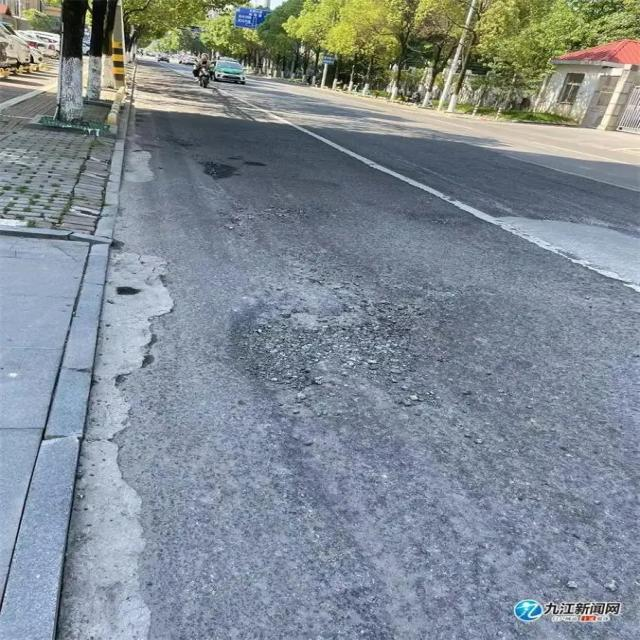Pothole: (231, 304, 459, 408), (493, 212, 639, 294), (215, 200, 318, 230)
